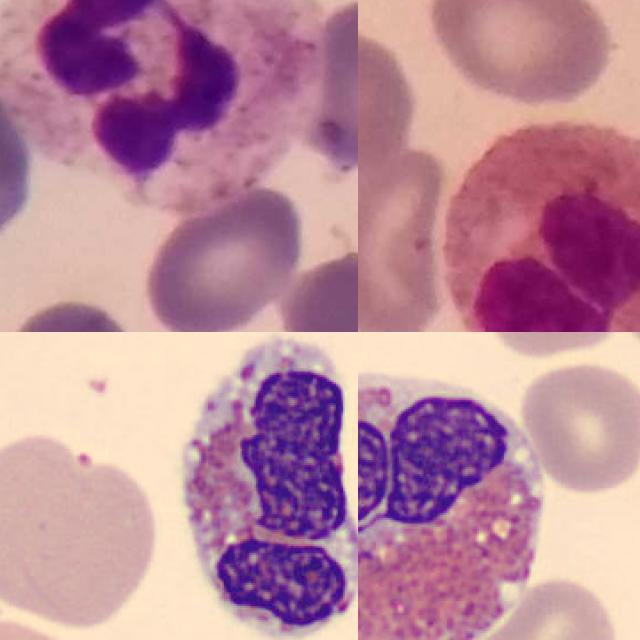Eosinophil: (160, 332, 358, 640), (358, 354, 555, 640), (435, 118, 640, 332)
Neutrophil: (0, 0, 328, 211)
RBC: (0, 429, 163, 632), (518, 357, 640, 497), (448, 572, 621, 640), (482, 332, 624, 363)
